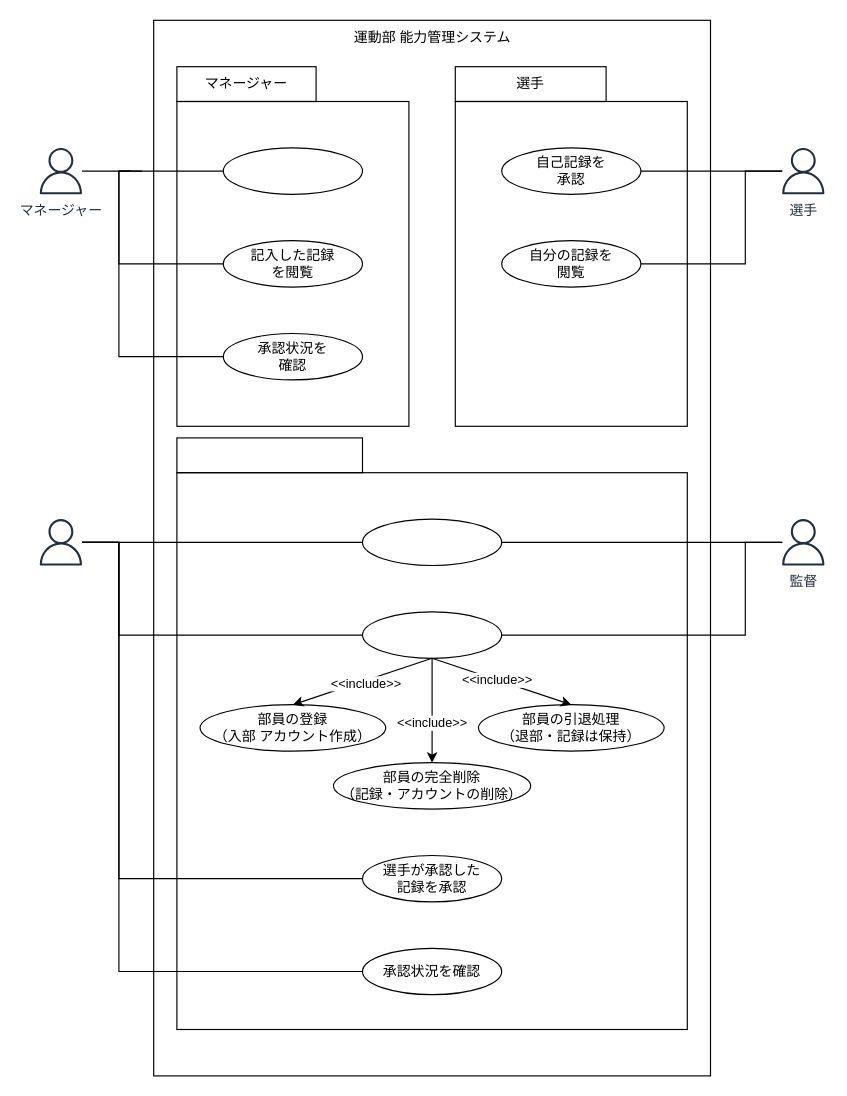
The diagram is 847 pixels wide and 1096 high, and some of its shapes have lost their labels. Here are the shapes that lost their labels. From the top down, the centre of each, then its label:
(292,170): 測定記録を 追加
(269,455): 管理者（監督・コーチ）
(60,542): コーチ
(431,542): 選手の記録を 閲覧
(431,634): 部員の管理
